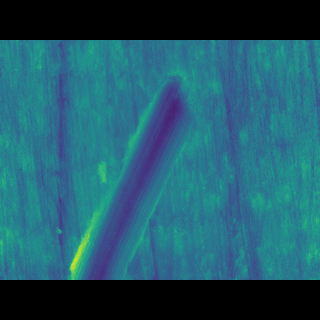Loch: (62, 92, 200, 249)
